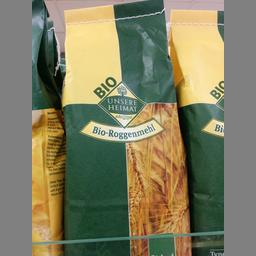flour: (65, 0, 192, 254)
